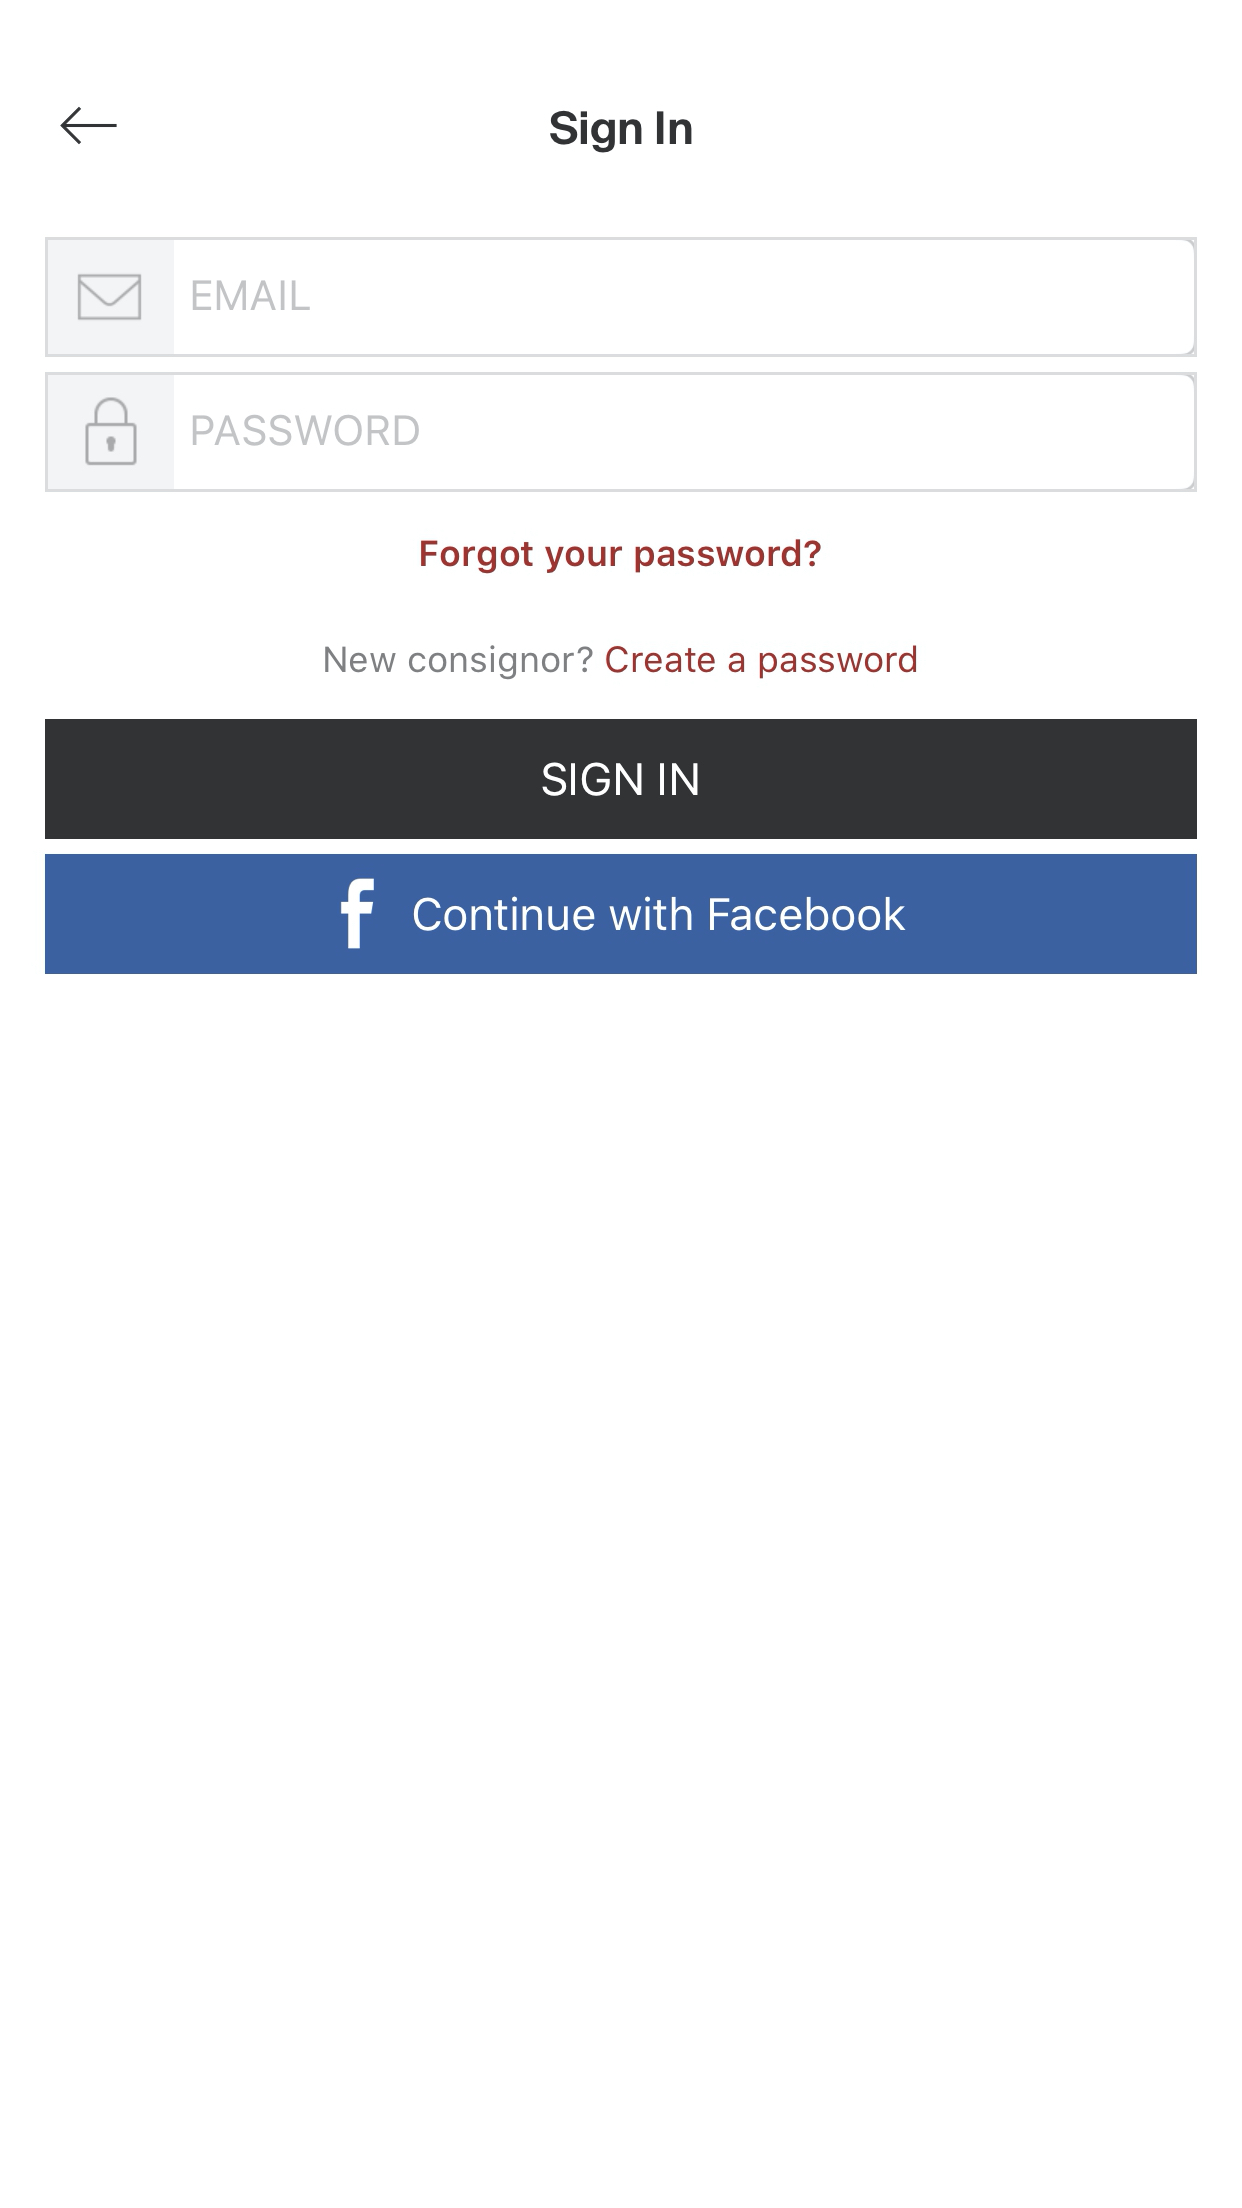EditText: (45, 372, 1197, 491), (45, 237, 1197, 356)
Icon: (85, 397, 138, 466), (77, 274, 143, 321), (61, 108, 117, 144)
Text: (420, 538, 820, 573), (607, 645, 917, 679), (325, 645, 593, 679), (193, 414, 419, 446), (550, 111, 692, 155), (193, 281, 309, 309)
TextButton: (45, 854, 1197, 974), (45, 719, 1197, 839)
